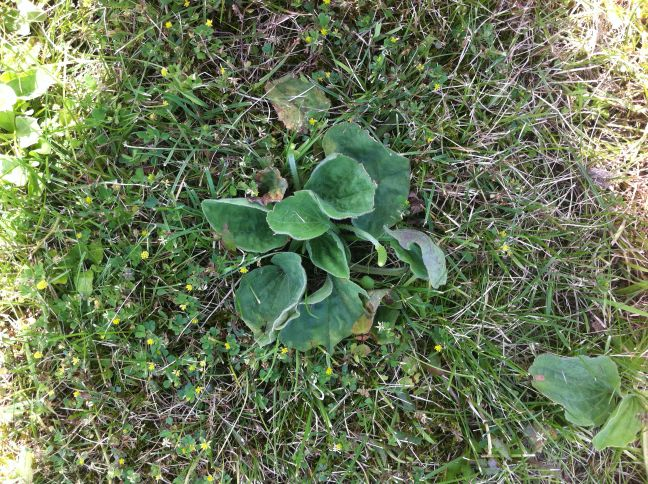weed1: (199, 122, 451, 356), (526, 348, 648, 460)
